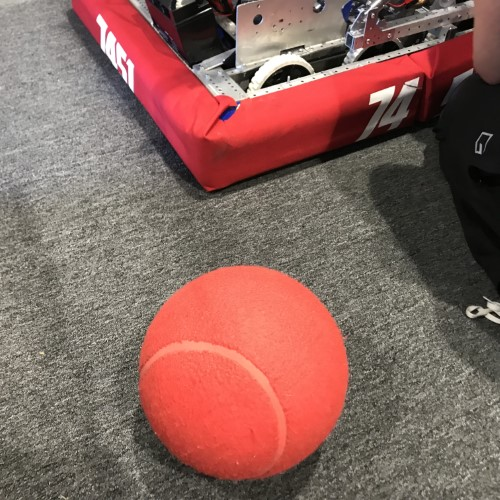red: (136, 264, 351, 481)
